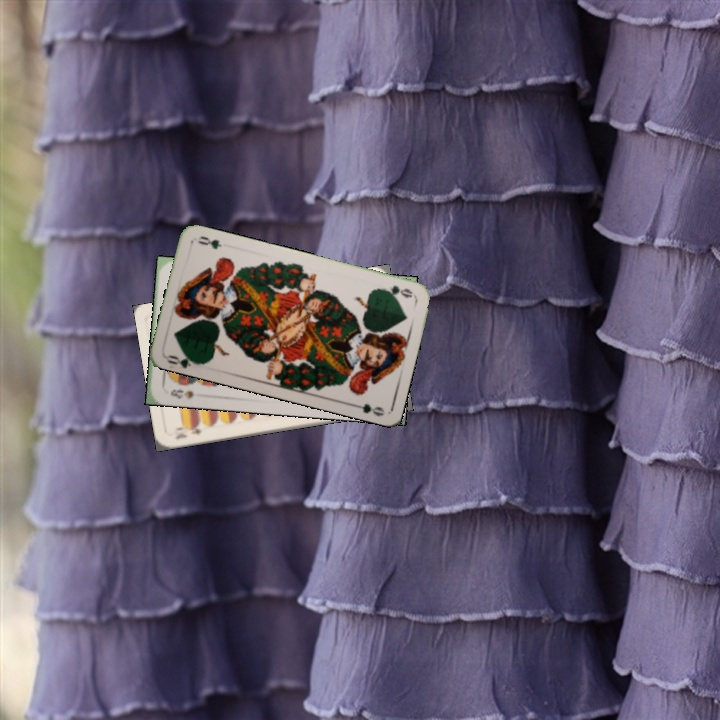E10: (171, 420, 205, 442)
GO: (163, 349, 204, 370), (376, 281, 415, 301)
S8: (166, 385, 197, 402)
